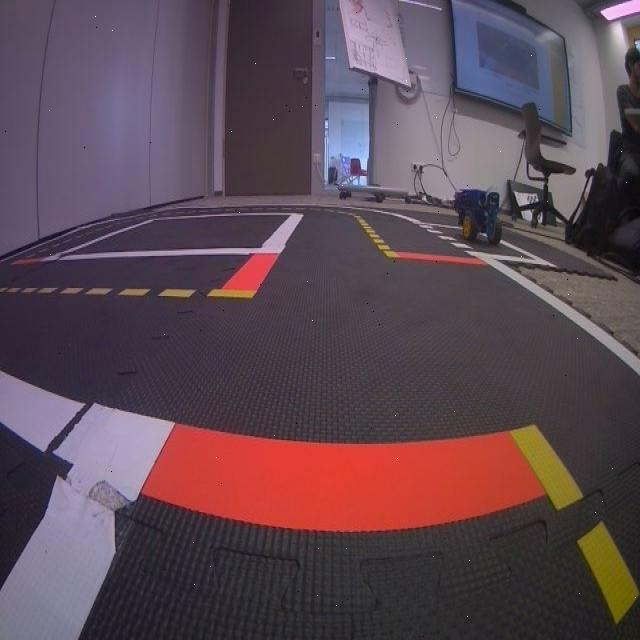bot: (452, 188, 505, 248)
park: (414, 222, 556, 266)
